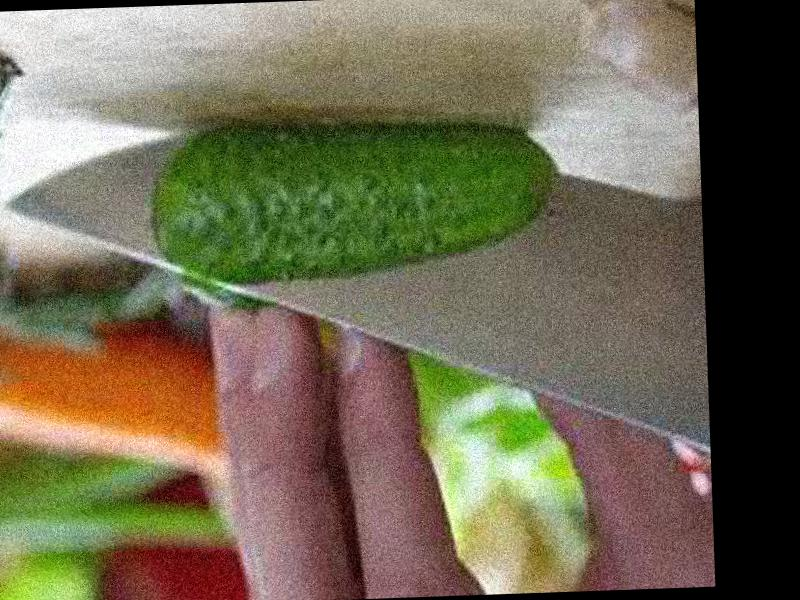Cucumber: (146, 109, 556, 288)
